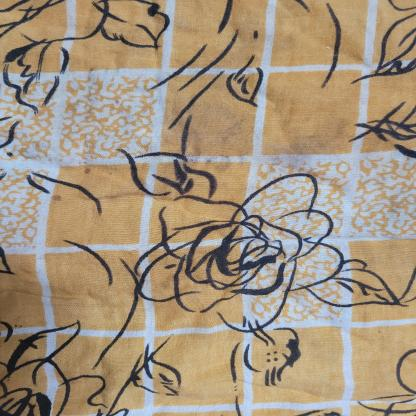spot: (262, 140, 309, 168), (206, 146, 234, 174), (53, 192, 76, 208), (78, 163, 99, 178)
